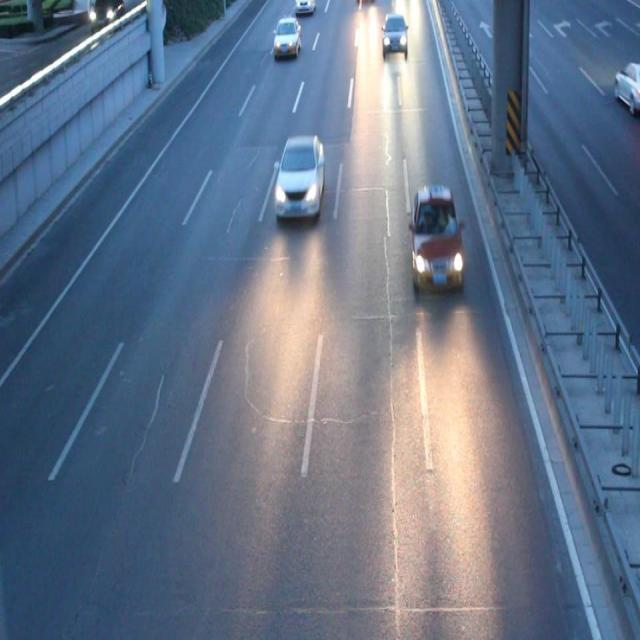car: (406, 185, 464, 291), (275, 136, 324, 218), (273, 18, 300, 56), (382, 15, 407, 56)
